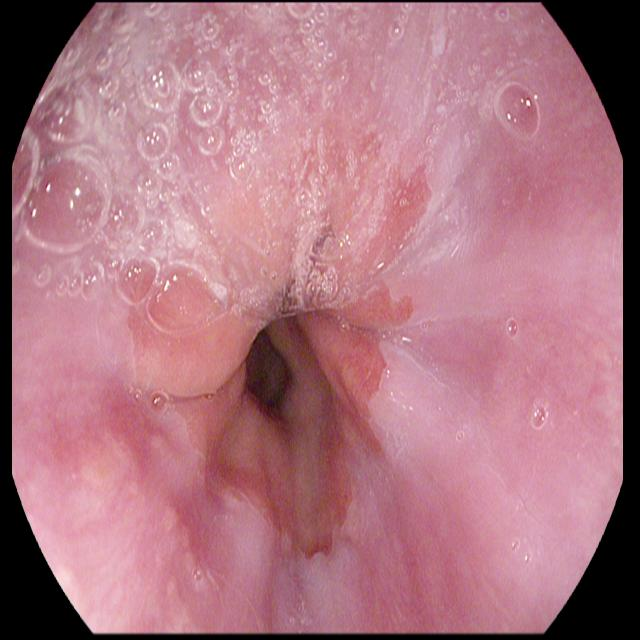Normal-Z-Line: (114, 125, 442, 551)
